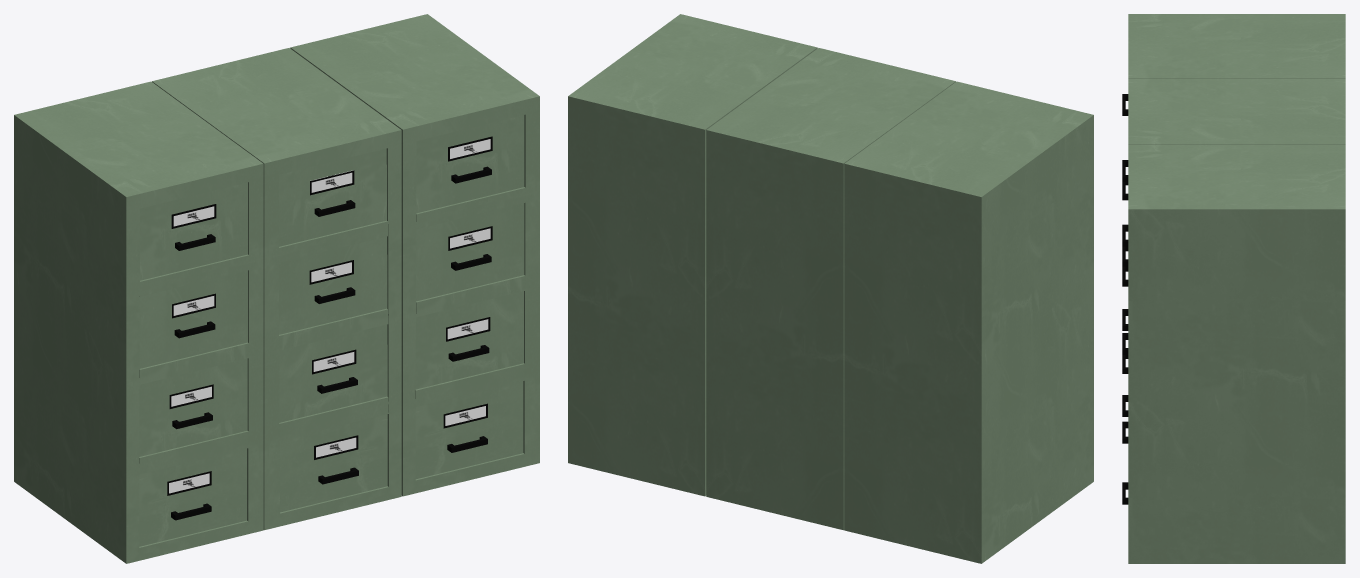
File: fbxDocuments.fbx
3 views of the same model, side by side, from view 1: azimuth 30°, elevation 25°; view 2: azimuth 150°, elevation 25°; view 3: azimuth 270°, elevation 25° (orthographic). The views are drawn at different scales.
Visible parts, largest first — view 1: cub2, cub3, documentsRender:cub2; view 2: cub2, cub3, documentsRender:cub2; view 3: cub3, documentsRender:cub2, cub2.
Part boxes in pixels (x1=…): cub2: x1=14, y1=81, x2=263, y2=563; cub3: x1=290, y1=14, x2=539, y2=496; documentsRender:cub2: x1=152, y1=48, x2=401, y2=530; cub2: x1=844, y1=81, x2=1093, y2=563; cub3: x1=568, y1=14, x2=817, y2=496; documentsRender:cub2: x1=706, y1=48, x2=955, y2=530; cub3: x1=1122, y1=144, x2=1345, y2=563; documentsRender:cub2: x1=1122, y1=79, x2=1345, y2=443; cub2: x1=1122, y1=14, x2=1345, y2=373.
Size of the model in its own units: 3.58 by 3.04 by 1.73.
3 materials, 2 textured.
